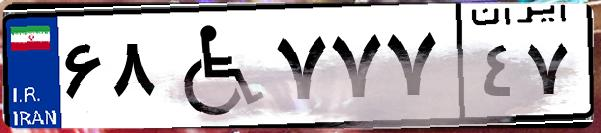4: (475, 38, 525, 113)
6: (57, 26, 110, 100)
7: (270, 28, 330, 110), (385, 28, 445, 110), (330, 28, 385, 110), (525, 38, 570, 115)
8: (110, 28, 158, 98)
ژ (معلولین و جانبازان): (158, 12, 270, 120)
